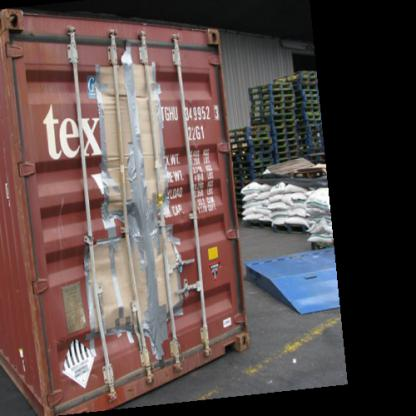Damage: (77, 50, 204, 382)
